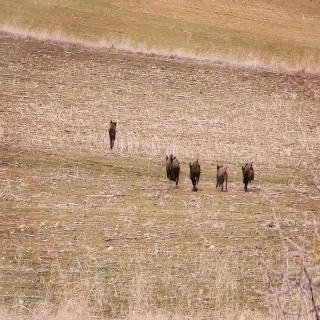Pig: (100, 111, 122, 157), (185, 161, 206, 200), (239, 157, 258, 197), (161, 151, 182, 182), (215, 153, 232, 190)
